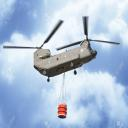helicopter: (4, 16, 121, 83)
